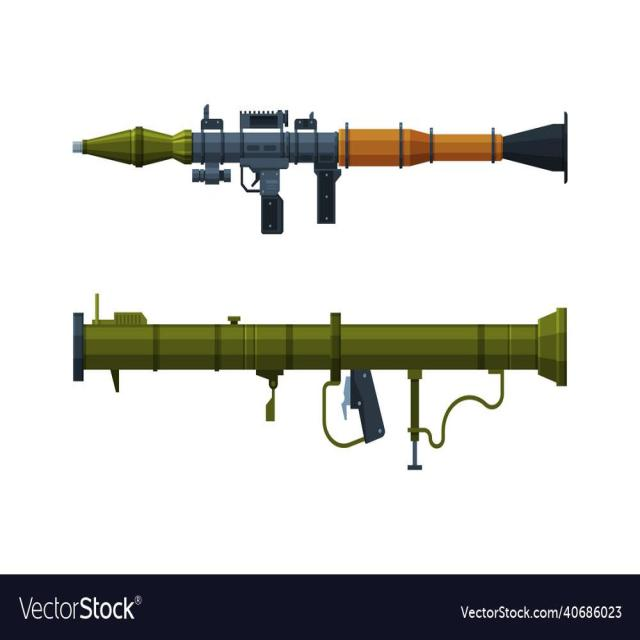weapon: (67, 290, 570, 472), (64, 100, 572, 242)
